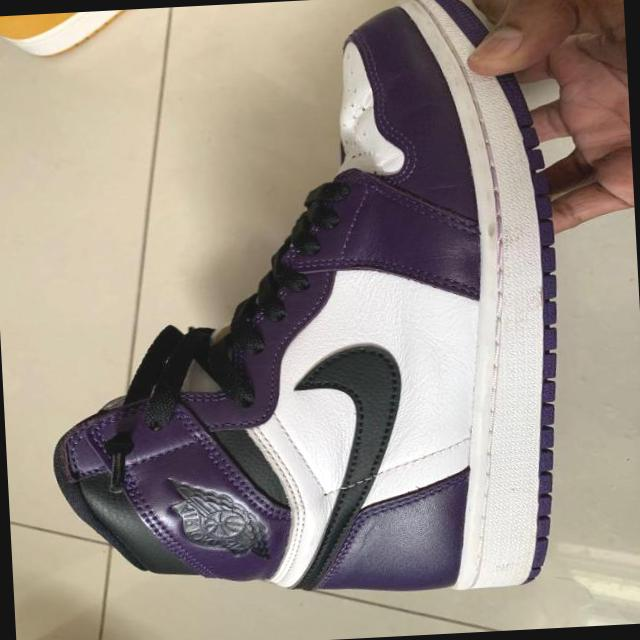nike_original_jordan: (27, 0, 569, 613)
